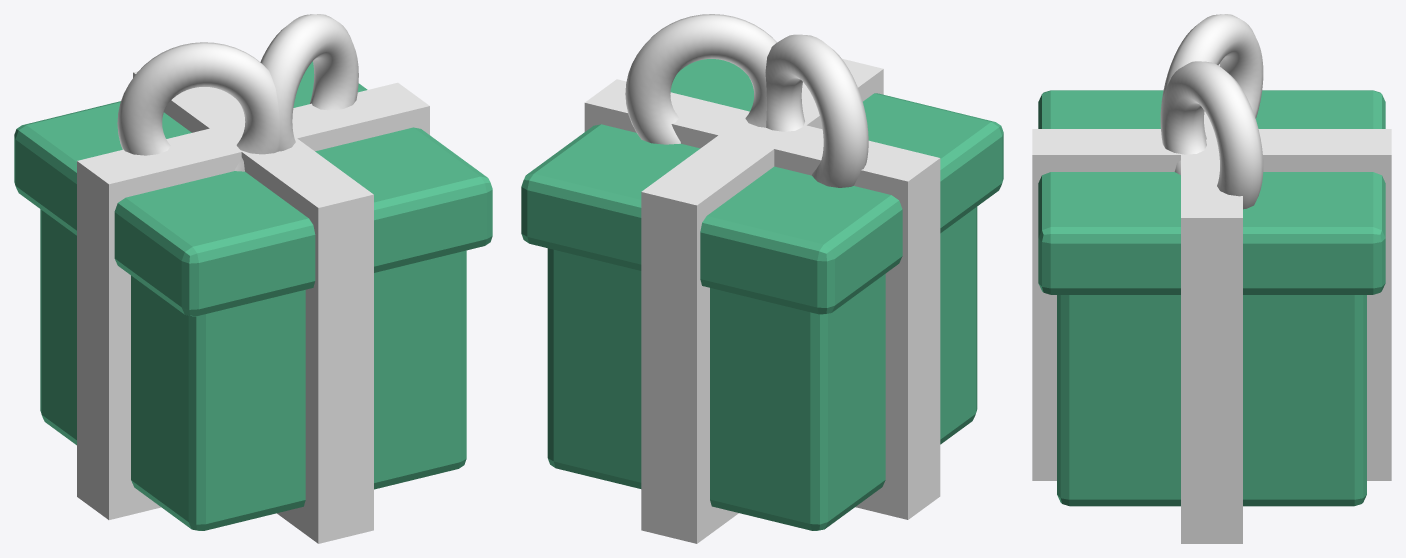
Rendered from gift_green.glb.
The picture shows the model from 3 angles, left to right: view 1: azimuth 30°, elevation 25°; view 2: azimuth 150°, elevation 25°; view 3: azimuth 270°, elevation 25°; orthographic projection. The views are drawn at different scales.
Parts seen in each view (by area): view 1: gift_green_mesh; view 2: gift_green_mesh; view 3: gift_green_mesh.
Boxes of the visible parts, <box> form: gift_green_mesh: <box>14,14,492,543</box>; gift_green_mesh: <box>521,14,1003,543</box>; gift_green_mesh: <box>1032,14,1391,543</box>.
Size of the model in its own units: 0.58 by 0.755 by 0.58.
